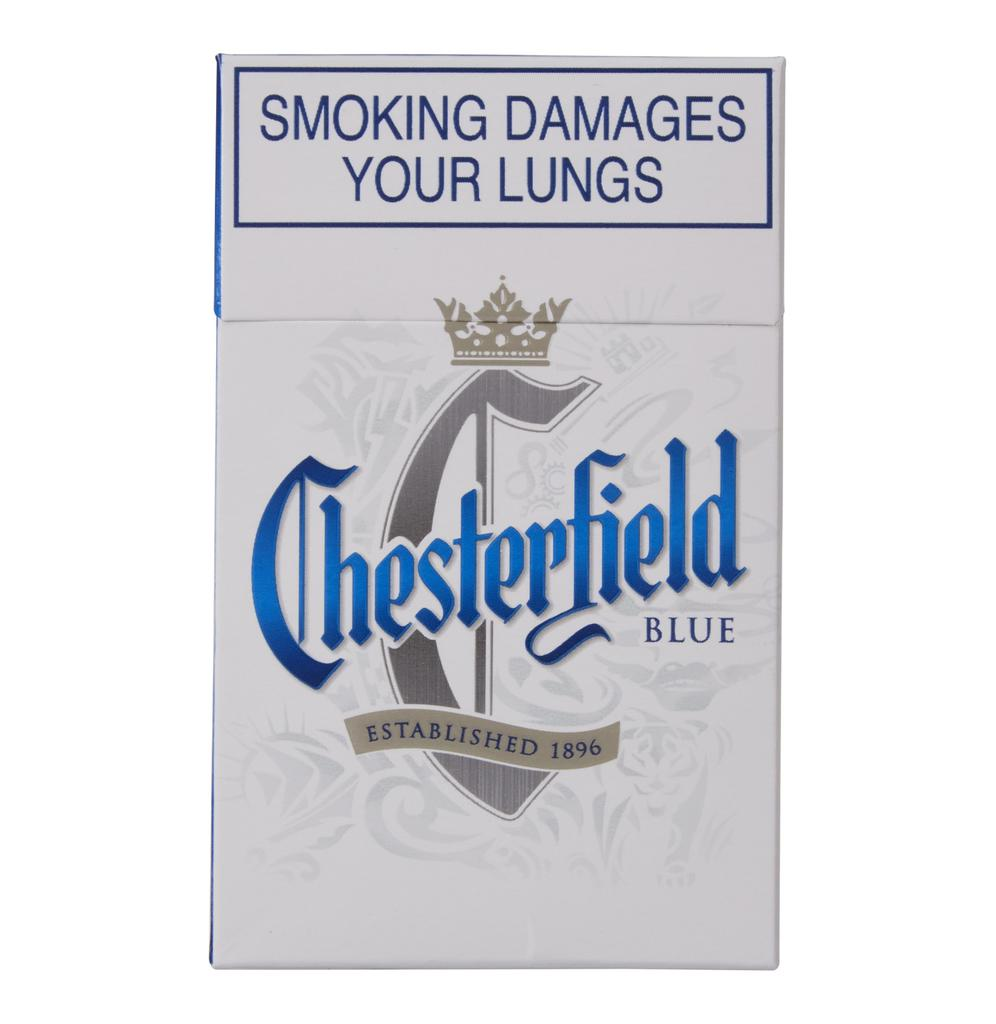chesterfield_blue: (222, 59, 779, 970)
